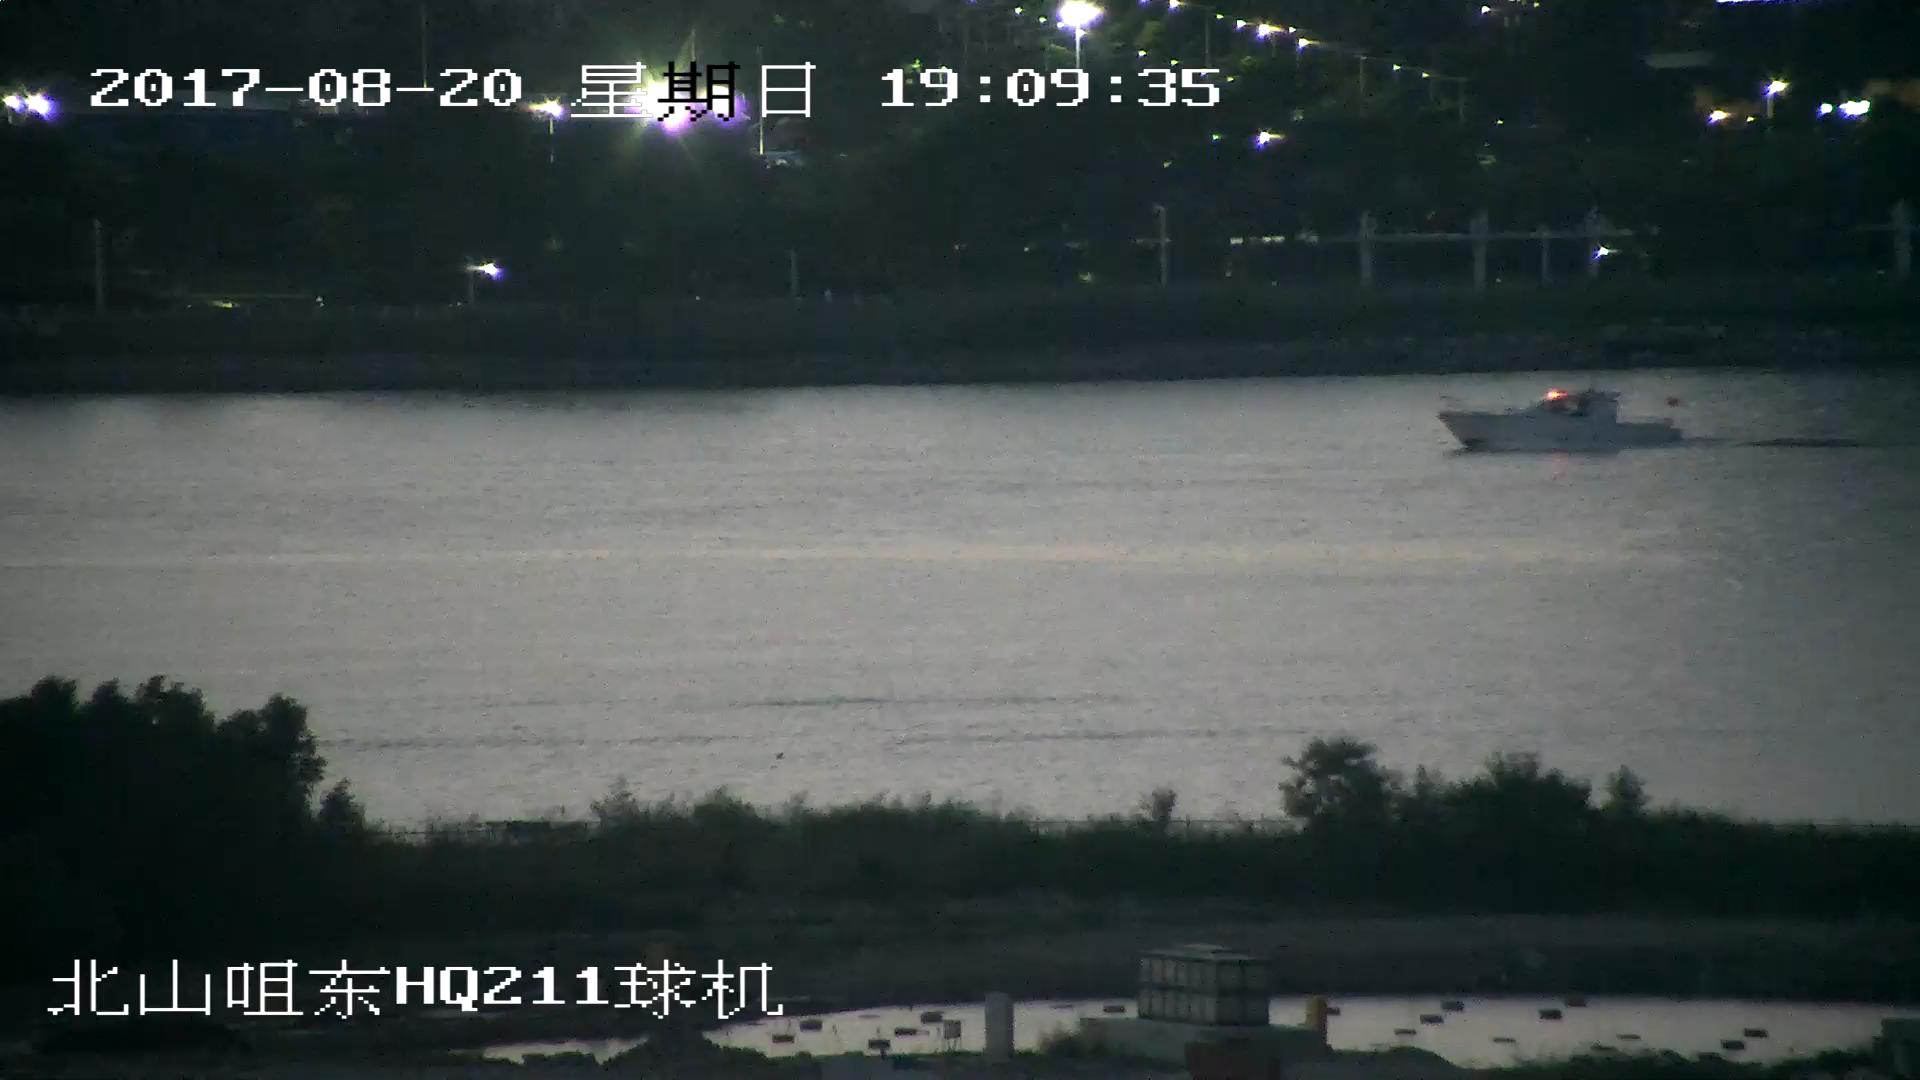passenger ship: (1448, 382, 1690, 453)
